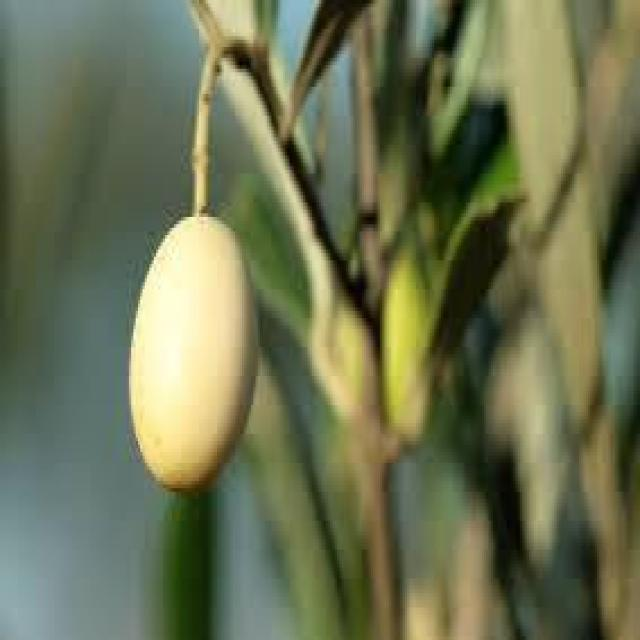Healthy: (131, 206, 258, 495)
